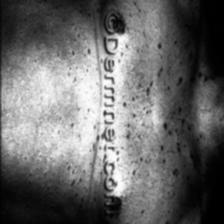Non-Cancerous Skin Condition: (120, 78, 152, 184), (175, 142, 181, 156), (176, 76, 182, 84), (202, 76, 208, 82), (162, 122, 166, 128)
